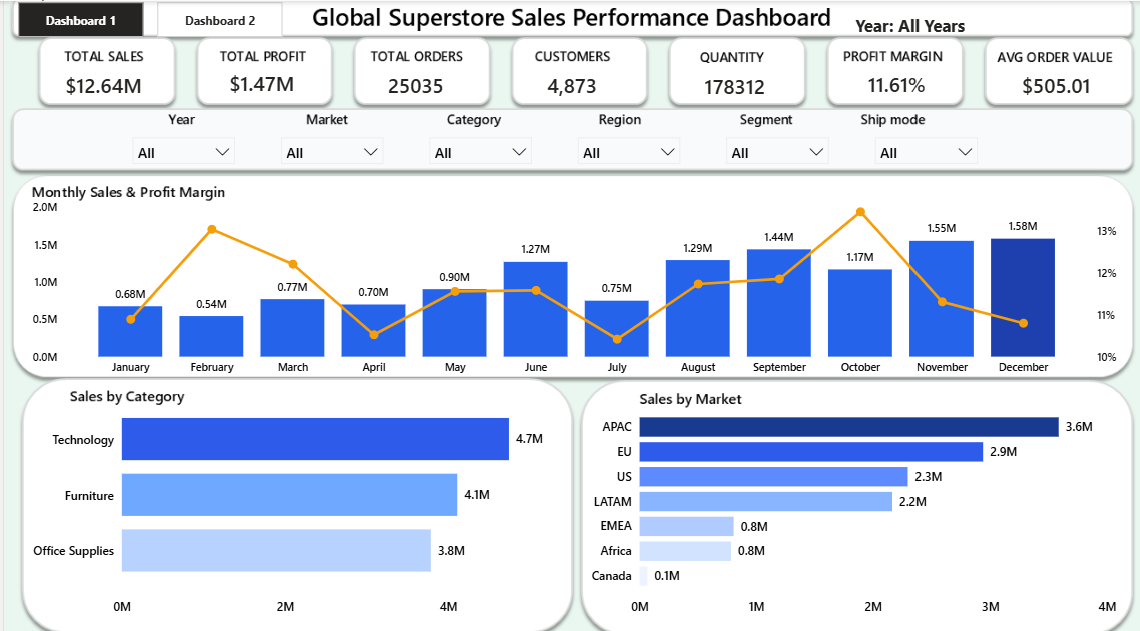

What the dashboard file says about the page in this screenshot:
{"tool":"powerbi","page":{"name":"Dashboard 1","canvas":[1280,720],"ordinal":0},"visuals":[{"type":"cardVisual","fields":{"Data":["superstore_changing.Total sales"]},"box":[36.7,60.2,151.1,66],"z":0},{"type":"cardVisual","fields":{"Data":["superstore_changing.Total profit"]},"box":[204,58.7,173.2,63.1],"z":1000},{"type":"cardVisual","fields":{"Data":["superstore_changing.Total orders"]},"box":[400.6,63.1,127.7,60.2],"z":2000},{"type":"cardVisual","fields":{"Data":["superstore_changing.customers"]},"box":[576.7,61.6,127.7,63.1],"z":3000},{"type":"cardVisual","fields":{"Data":["superstore_changing.total Quantity"]},"box":[760.1,63.1,127.7,63.1],"z":4000},{"type":"cardVisual","fields":{"Data":["superstore_changing.profit margin"]},"box":[942.1,60.2,127.7,63.1],"z":5000},{"type":"cardVisual","fields":{"Data":["superstore_changing.avg order_value"]},"box":[1112.3,63.1,145.3,60.2],"z":6000},{"type":"lineClusteredColumnComboChart","fields":{"Y2":["superstore_changing.profit margin"],"Category":["superstore_changing.Order_Date.Variation.Date Hierarchy.Month"],"Y":["Sum(superstore_changing.Sales)"]},"box":[26.4,217.2,1231.2,214.2],"z":7000},{"type":"clusteredBarChart","fields":{"Category":["superstore_changing.Category"],"Y":["Sum(superstore_changing.Sales)"]},"box":[26.4,431.4,597.2,270],"z":8000},{"type":"clusteredBarChart","fields":{"Category":["superstore_changing.Market"],"Y":["Sum(superstore_changing.Sales)"]},"box":[655.9,444.6,601.7,256.8],"z":9000},{"type":"slicer","fields":{"Values":["superstore_changing.Year"]},"box":[135.5,143.6,135,45],"z":10000},{"type":"slicer","fields":{"Values":["superstore_changing.Market"]},"box":[302.5,143.6,135,45],"z":11000},{"type":"slicer","fields":{"Values":["superstore_changing.Category"]},"box":[469.6,143.6,135,45],"z":12000},{"type":"slicer","fields":{"Values":["superstore_changing.Region"]},"box":[636.7,143.6,135,45],"z":13000},{"type":"slicer","fields":{"Values":["superstore_changing.Segment"]},"box":[803.8,143.6,135,45],"z":14000},{"type":"slicer","fields":{"Values":["superstore_changing.Ship_Mode"]},"box":[970.9,143.6,135,45],"z":15000},{"type":"cardVisual","fields":{"Data":["superstore_changing.Selected Year"]},"box":[930.4,1.5,217.2,51.4],"z":16000},{"type":"pageNavigator","box":[16.1,1.5,299.4,39.6],"z":17000}]}

Visuals, with their boxes in screenshot pixels (x1, y1, x2, y2), scaled from the page's 1280x720 canvas onto the 1140x631 screenshot:
cardVisual - superstore_changing.Total sales: pyautogui.locateOnScreen(33, 53, 167, 111)
cardVisual - superstore_changing.Total profit: pyautogui.locateOnScreen(182, 51, 336, 107)
cardVisual - superstore_changing.Total orders: pyautogui.locateOnScreen(357, 55, 471, 108)
cardVisual - superstore_changing.customers: pyautogui.locateOnScreen(514, 54, 627, 109)
cardVisual - superstore_changing.total Quantity: pyautogui.locateOnScreen(677, 55, 791, 111)
cardVisual - superstore_changing.profit margin: pyautogui.locateOnScreen(839, 53, 953, 108)
cardVisual - superstore_changing.avg order_value: pyautogui.locateOnScreen(991, 55, 1120, 108)
lineClusteredColumnComboChart - superstore_changing.profit margin x superstore_changing.Order_Date.Variation.Date Hierarchy.Month: pyautogui.locateOnScreen(24, 190, 1120, 378)
clusteredBarChart - superstore_changing.Category x Sum(superstore_changing.Sales): pyautogui.locateOnScreen(24, 378, 555, 615)
clusteredBarChart - superstore_changing.Market x Sum(superstore_changing.Sales): pyautogui.locateOnScreen(584, 390, 1120, 615)
slicer - superstore_changing.Year: pyautogui.locateOnScreen(121, 126, 241, 165)
slicer - superstore_changing.Market: pyautogui.locateOnScreen(269, 126, 390, 165)
slicer - superstore_changing.Category: pyautogui.locateOnScreen(418, 126, 538, 165)
slicer - superstore_changing.Region: pyautogui.locateOnScreen(567, 126, 687, 165)
slicer - superstore_changing.Segment: pyautogui.locateOnScreen(716, 126, 836, 165)
slicer - superstore_changing.Ship_Mode: pyautogui.locateOnScreen(865, 126, 985, 165)
cardVisual - superstore_changing.Selected Year: pyautogui.locateOnScreen(829, 1, 1022, 46)
pageNavigator: pyautogui.locateOnScreen(14, 1, 281, 36)
